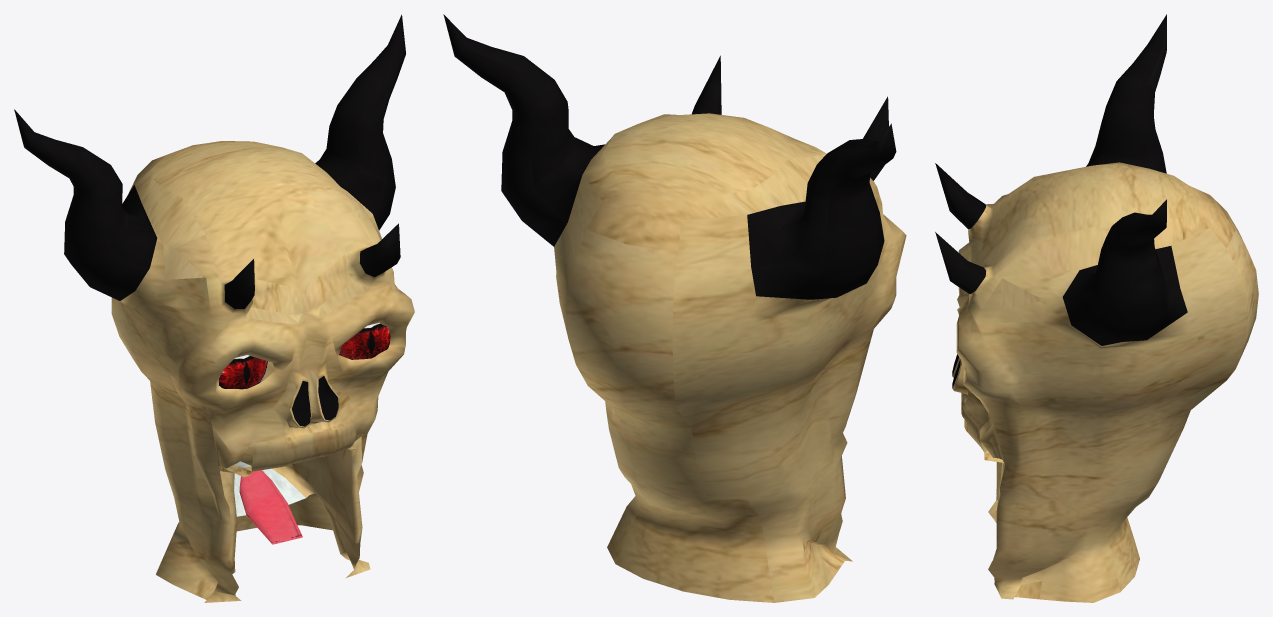
The model's file is devil_head_GEO_01.fbx.
The picture shows the model from 3 angles, left to right: view 1: azimuth 30°, elevation 25°; view 2: azimuth 150°, elevation 25°; view 3: azimuth 270°, elevation 25°; orthographic projection. The views are drawn at different scales.
Visible parts, largest first — view 1: polySurface5; view 2: polySurface5; view 3: polySurface5.
Boxes of the visible parts, x1,y1,x2,y2 form: polySurface5: (14, 14, 414, 602); polySurface5: (443, 14, 906, 602); polySurface5: (935, 14, 1258, 602).
Size of the model in its own units: 1.03 by 1.18 by 0.7633.
Materials: 5 (5 with a texture image).
